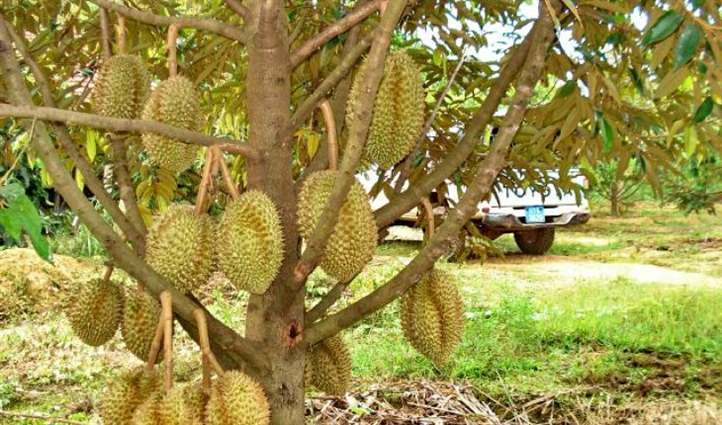sau_rieng: (296, 171, 391, 291), (351, 60, 432, 172), (219, 184, 291, 301), (145, 200, 213, 293), (91, 55, 146, 136)
